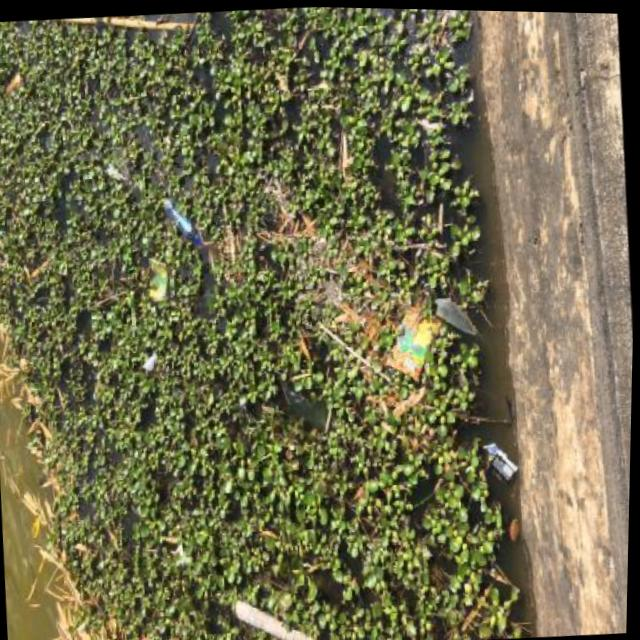plastic: (384, 303, 447, 385), (163, 196, 204, 245)
